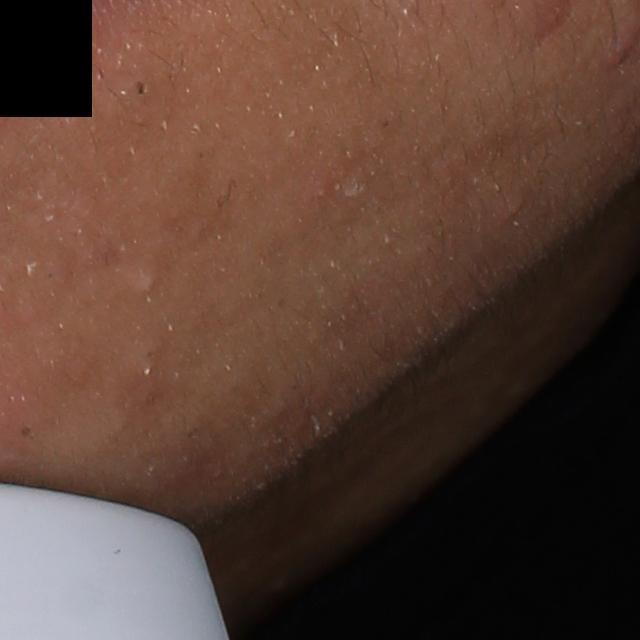comedo: (132, 269, 158, 301)
